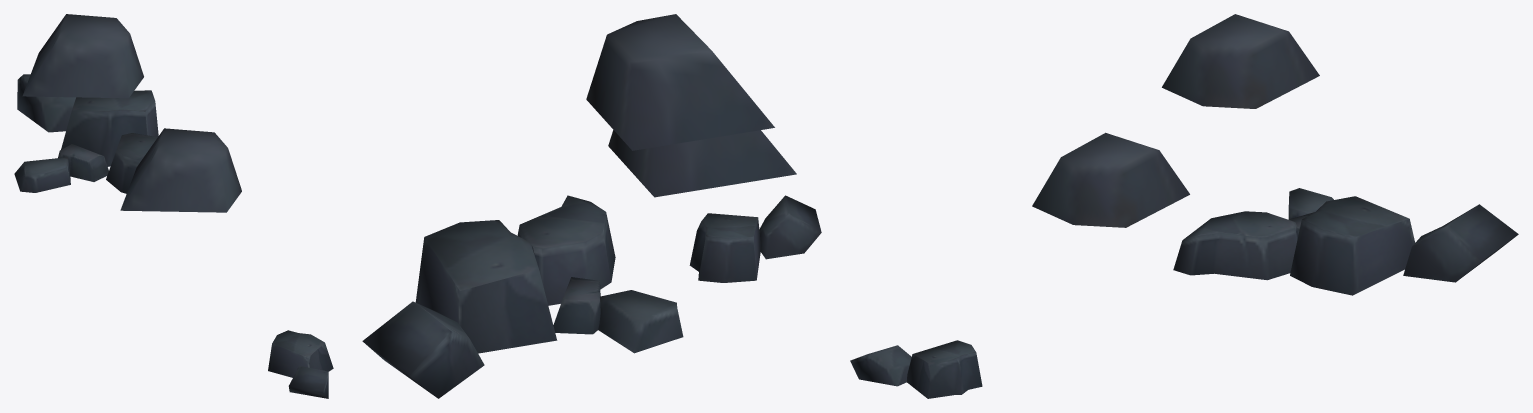
The model's file is Area_05_10.fbx.
3 views of the same model, side by side, from view 1: azimuth 30°, elevation 25°; view 2: azimuth 150°, elevation 25°; view 3: azimuth 270°, elevation 25° (orthographic). The views are drawn at different scales.
Visible parts, largest first — view 1: Area_05_10; view 2: Area_05_10; view 3: Area_05_10.
Boxes of the visible parts, left/top/right/bottom form: Area_05_10: left=14, top=14, right=333, bottom=398; Area_05_10: left=362, top=14, right=821, bottom=398; Area_05_10: left=850, top=14, right=1518, bottom=398.
Size of the model in its own units: 1289 by 1723 by 3415.
